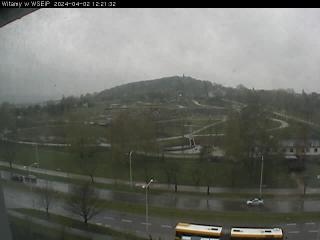bus: (173, 220, 285, 240)
car: (246, 198, 265, 208), (24, 174, 37, 182), (12, 174, 24, 182)
